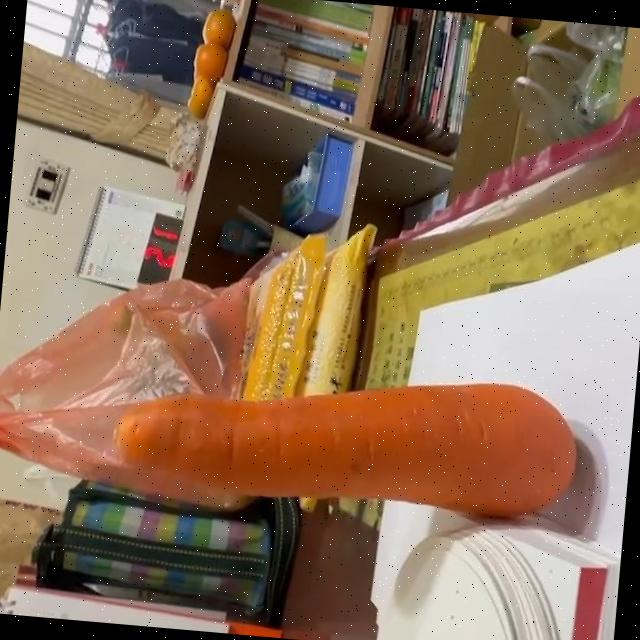carrot: (115, 382, 576, 516)
